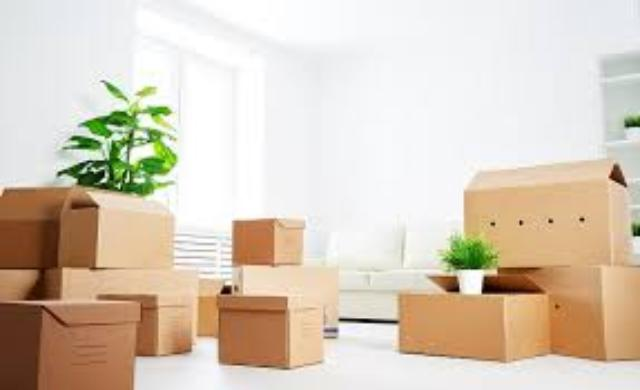cardboard paper: (464, 158, 629, 265), (42, 268, 196, 355), (397, 272, 546, 357), (0, 301, 138, 388), (522, 265, 638, 359), (58, 187, 172, 268), (216, 294, 321, 366), (0, 187, 69, 268), (232, 219, 303, 263)
